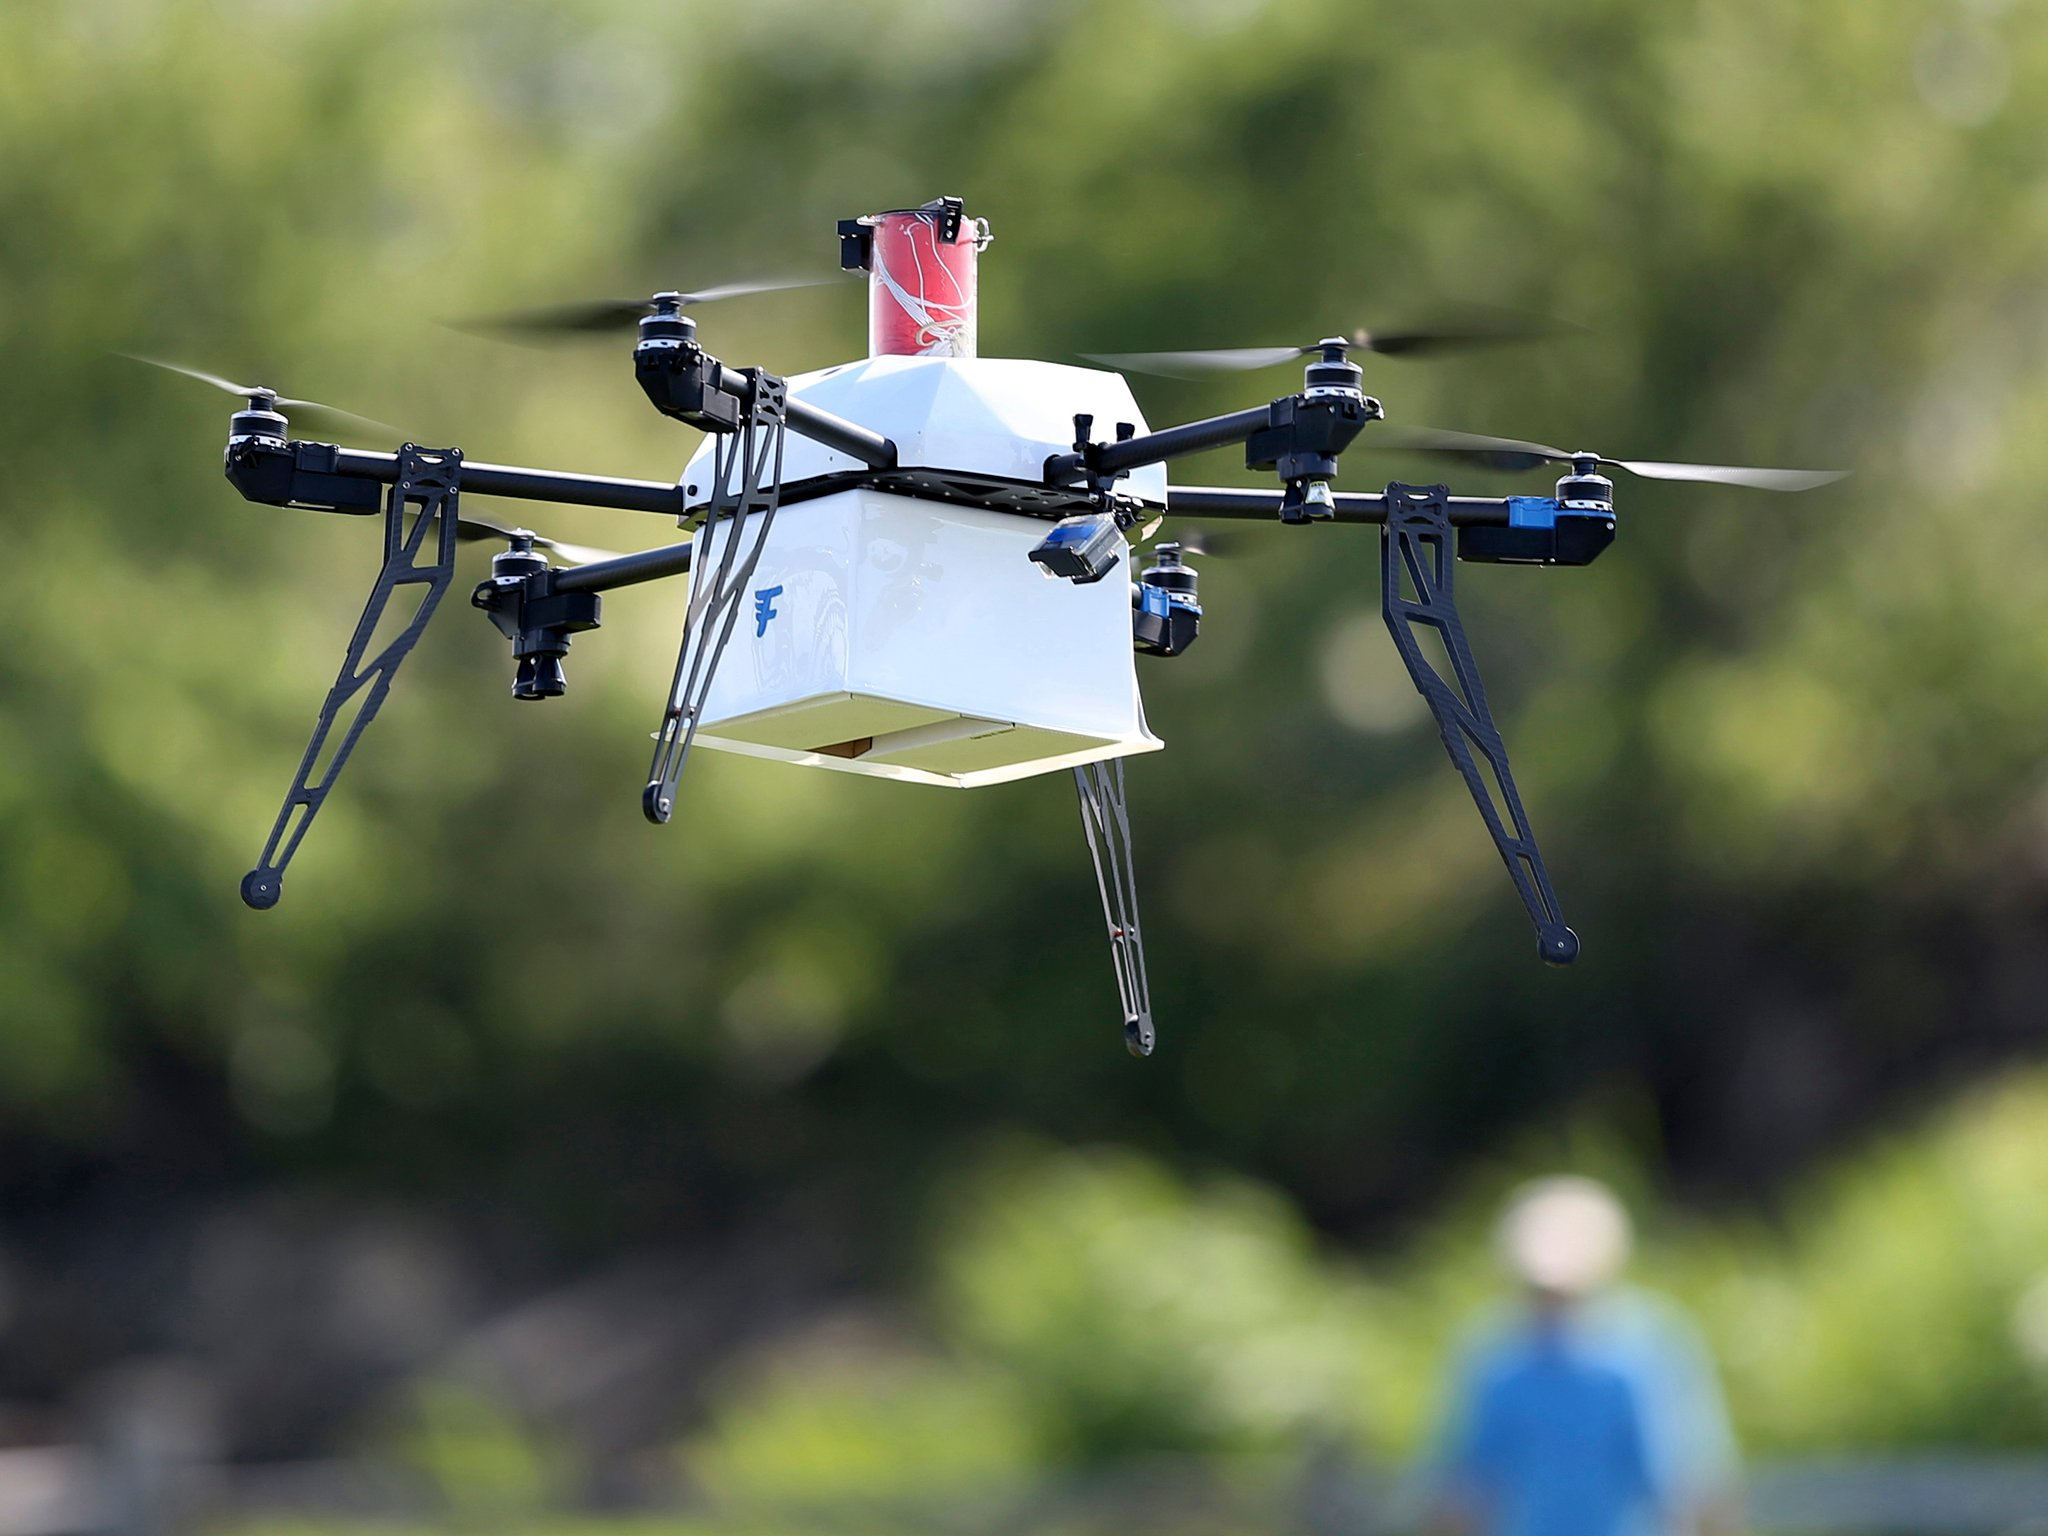drone: (102, 184, 1863, 1065)
